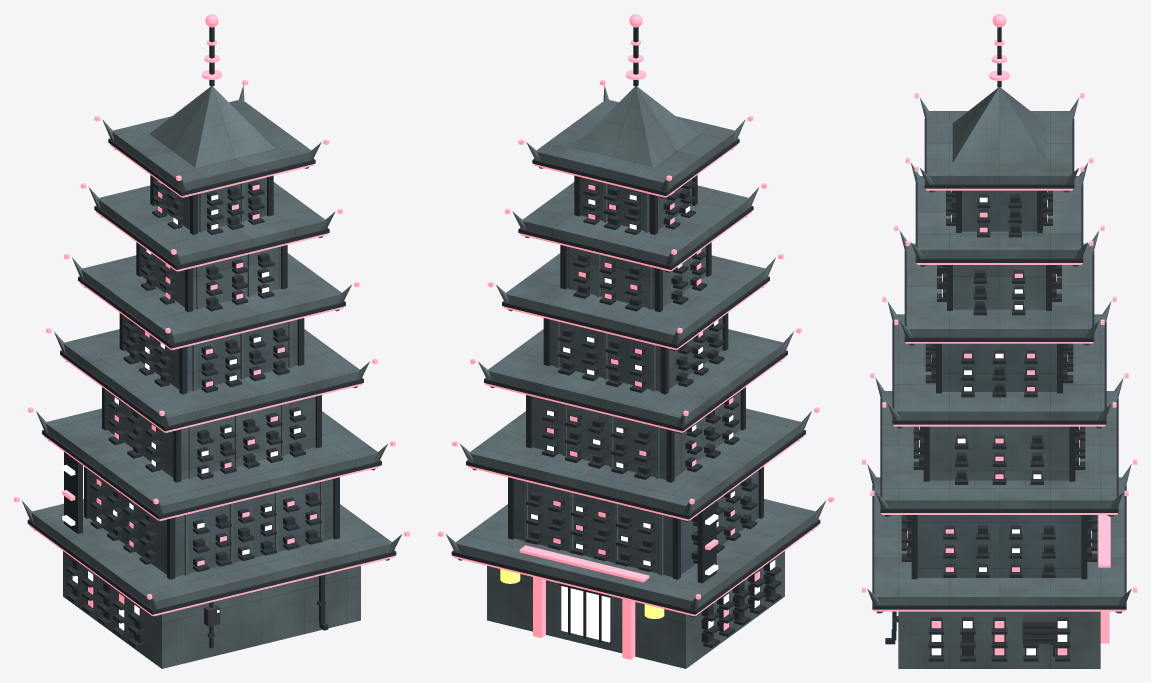
File: synthwave-pagoda.glb
3 renders of one model, left to right at view 1: azimuth 30°, elevation 25°; view 2: azimuth 150°, elevation 25°; view 3: azimuth 270°, elevation 25°, orthographic.
Visible parts, largest first — view 1: Pagoda_Body2, Pagoda_Frame, Pagoda_Body, Pagoda_DimA, Pagoda_PaneOff, Pagoda_PaneBDim, Pagoda_PaneADim; view 2: Pagoda_Body2, Pagoda_Frame, Pagoda_Body, Pagoda_DimA, Pagoda_PagTorii, EntryGlow, Pagoda_PaneOff, Pagoda_PaneBDim, Pagoda_PaneADim; view 3: Pagoda_Body2, Pagoda_Frame, Pagoda_Body, Pagoda_DimA, Pagoda_PaneOff, Pagoda_PagTorii, Pagoda_Door, Pagoda_PaneADim, Pagoda_PaneBDim, Pagoda_PaneAHot.
Boxes of the visible parts, x1,y1,x2,y2 form: Pagoda_Body2: (22, 85, 401, 668); Pagoda_Frame: (27, 138, 396, 648); Pagoda_Body: (89, 177, 333, 576); Pagoda_DimA: (14, 80, 409, 616); Pagoda_PaneOff: (72, 189, 316, 641); Pagoda_PaneBDim: (72, 194, 300, 630); Pagoda_PaneADim: (88, 180, 316, 607); Pagoda_Body2: (446, 85, 825, 668); Pagoda_Frame: (451, 138, 820, 647); Pagoda_Body: (514, 177, 758, 576); Pagoda_DimA: (438, 80, 833, 616); Pagoda_PagTorii: (519, 545, 649, 659); EntryGlow: (561, 586, 610, 642); Pagoda_PaneOff: (531, 180, 775, 641); Pagoda_PaneBDim: (547, 194, 775, 628); Pagoda_PaneADim: (547, 184, 734, 630); Pagoda_Body2: (867, 87, 1131, 668); Pagoda_Frame: (872, 119, 1126, 661); Pagoda_Body: (917, 190, 1081, 577); Pagoda_DimA: (862, 93, 1136, 611); Pagoda_PaneOff: (907, 197, 1091, 655); Pagoda_PagTorii: (1098, 515, 1110, 643); Pagoda_Door: (892, 614, 1056, 643); Pagoda_PaneADim: (907, 190, 1079, 655); Pagoda_PaneBDim: (919, 199, 1079, 655); Pagoda_PaneAHot: (945, 212, 1091, 655).
Bounding box in the file's own units: 1.52 × 3.31 × 1.36.
16 materials, 2 textured.
